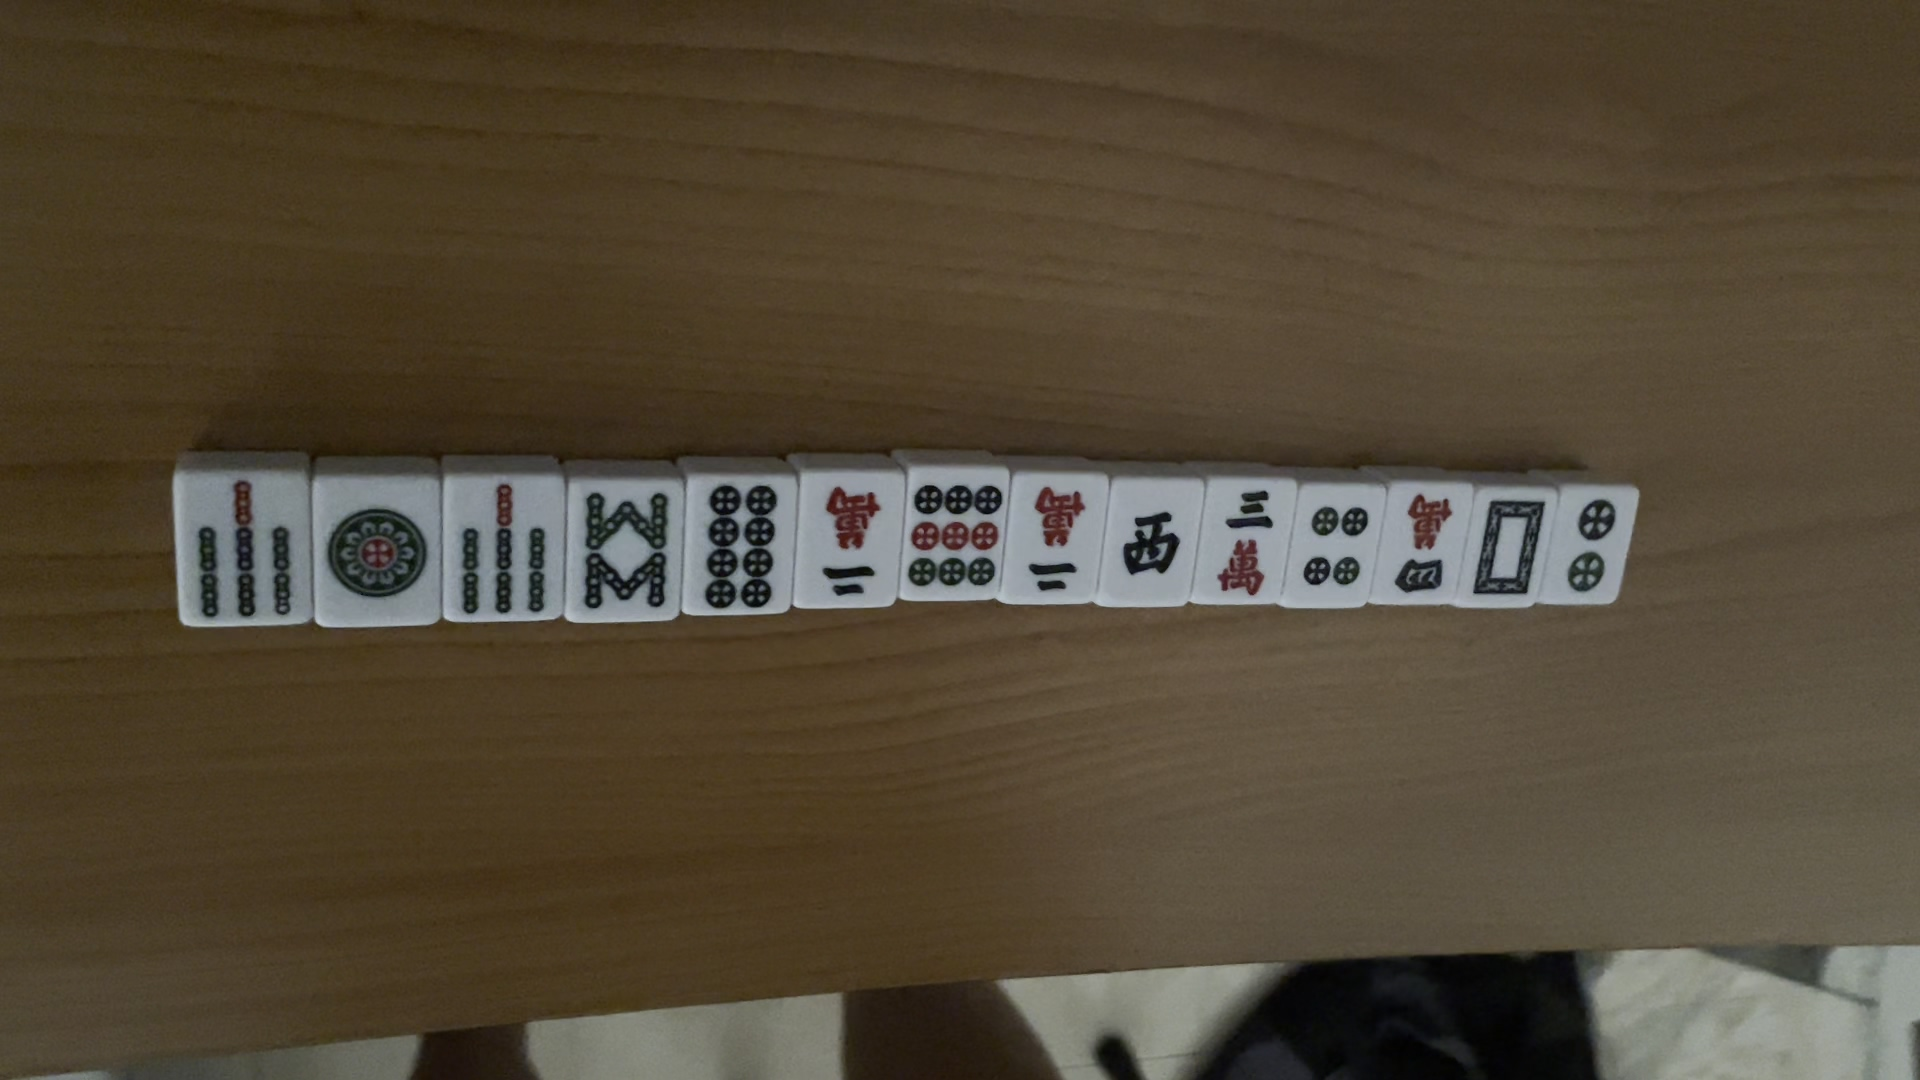b-7: (189, 476, 302, 624), (448, 472, 562, 620)
b-8: (574, 491, 673, 615)
c-2: (806, 485, 894, 607), (1011, 483, 1098, 604)
c-3: (1216, 489, 1280, 596)
c-4: (1387, 492, 1455, 603)
d-1: (320, 506, 433, 609)
d-2: (1564, 496, 1623, 596)
d-4: (1298, 502, 1378, 592)
d-8: (688, 480, 789, 611)
d-9: (905, 479, 1006, 595)
hornors-west: (1112, 502, 1193, 591)
hornors-white: (1468, 498, 1548, 596)
